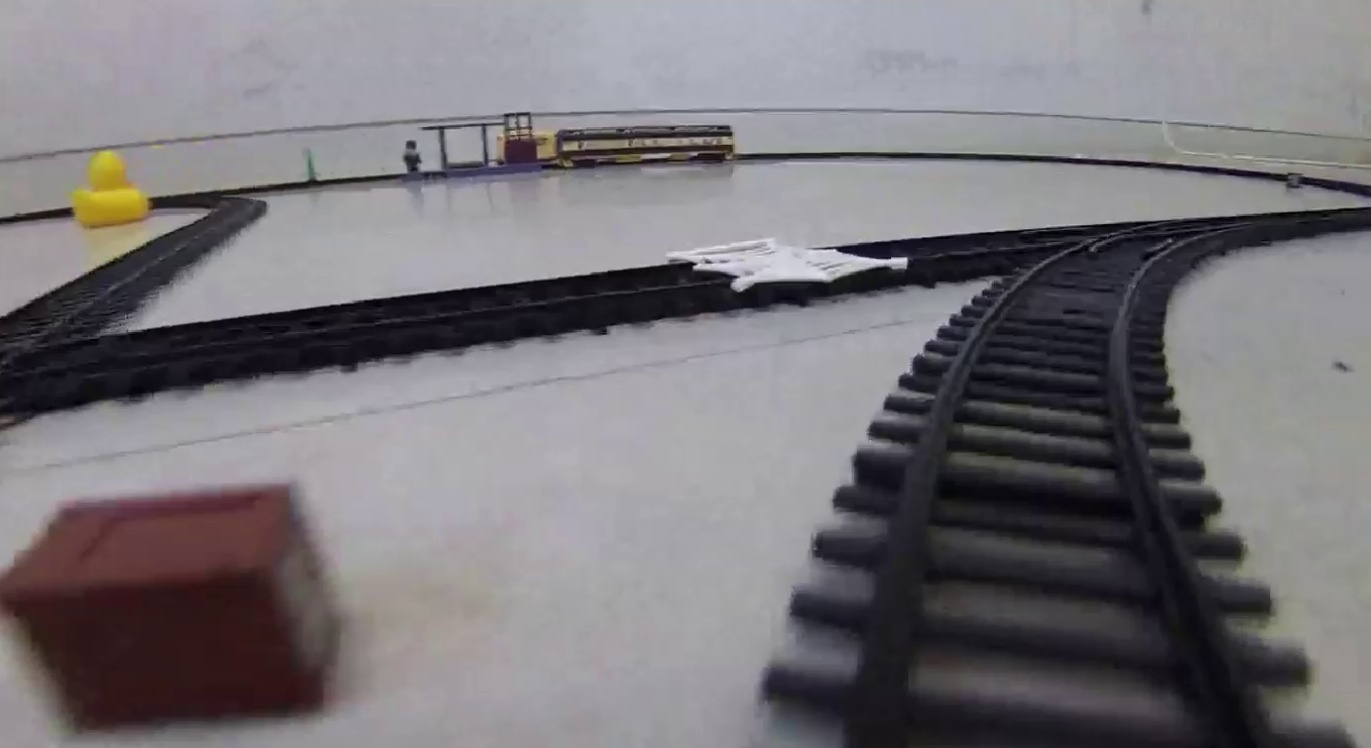box: (24, 495, 316, 708)
web: (668, 235, 908, 292)
